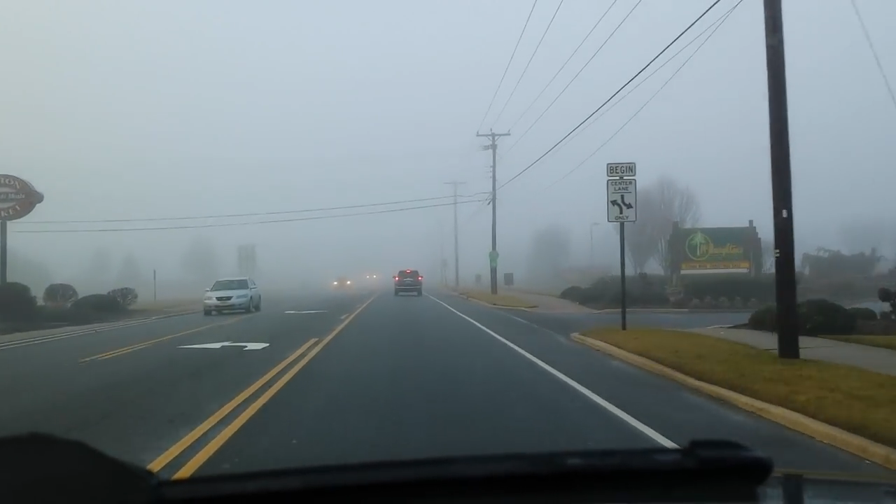car: (199, 275, 264, 315), (391, 268, 426, 297), (329, 274, 354, 290)
